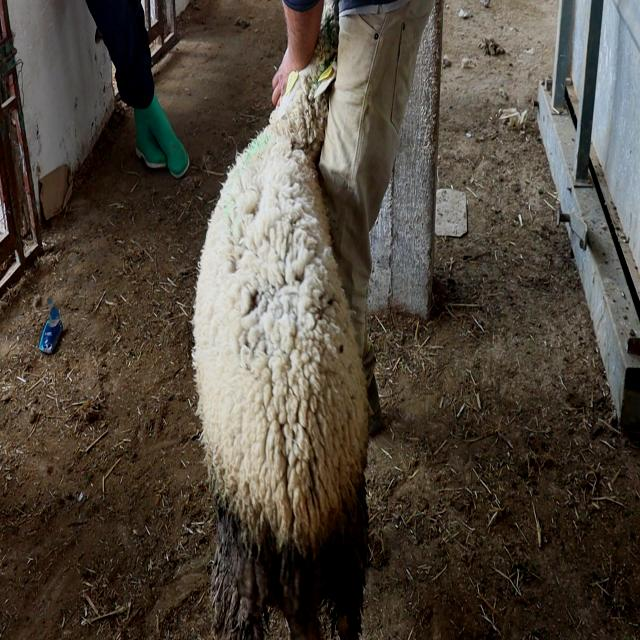Score_5: (192, 18, 370, 639)
